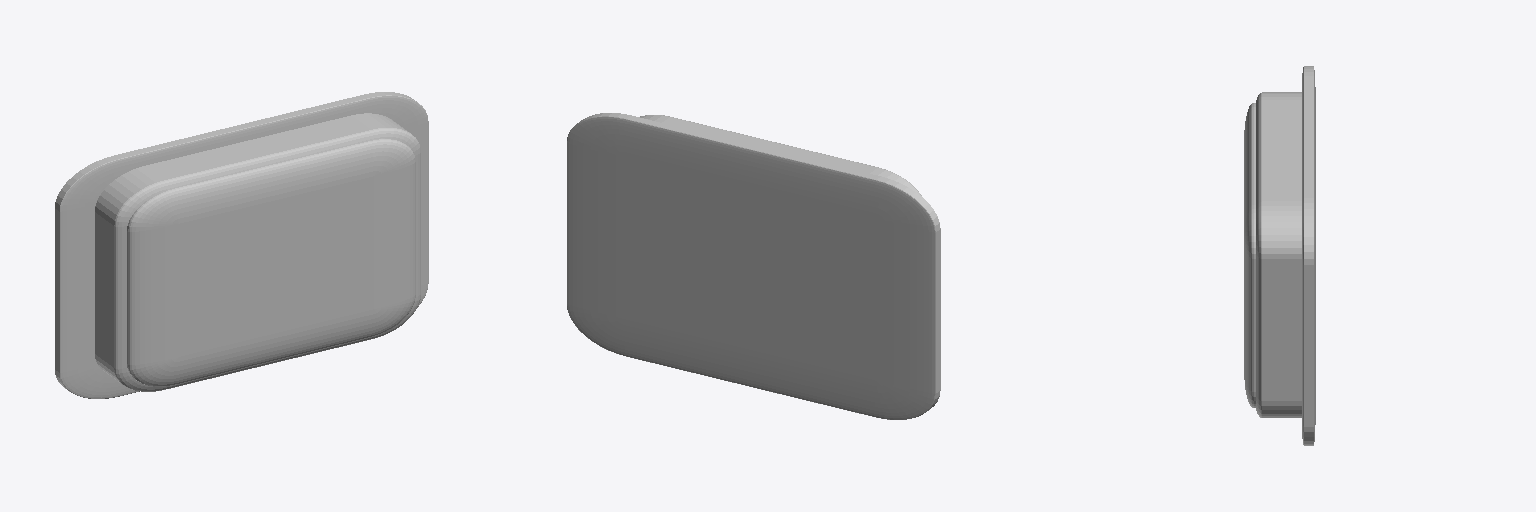
The model's file is curb island.obj.
3 views of the same model, side by side, from view 1: azimuth 30°, elevation 25°; view 2: azimuth 150°, elevation 25°; view 3: azimuth 270°, elevation 25° (orthographic).
Visible parts, largest first — view 1: obj_0; view 2: obj_0; view 3: obj_0.
Part boxes in pixels (x1,y1,x2,y2): obj_0: (55, 92, 428, 398); obj_0: (567, 113, 940, 419); obj_0: (1244, 66, 1315, 445).
Size of the model in its own units: 26 by 16 by 4.38.